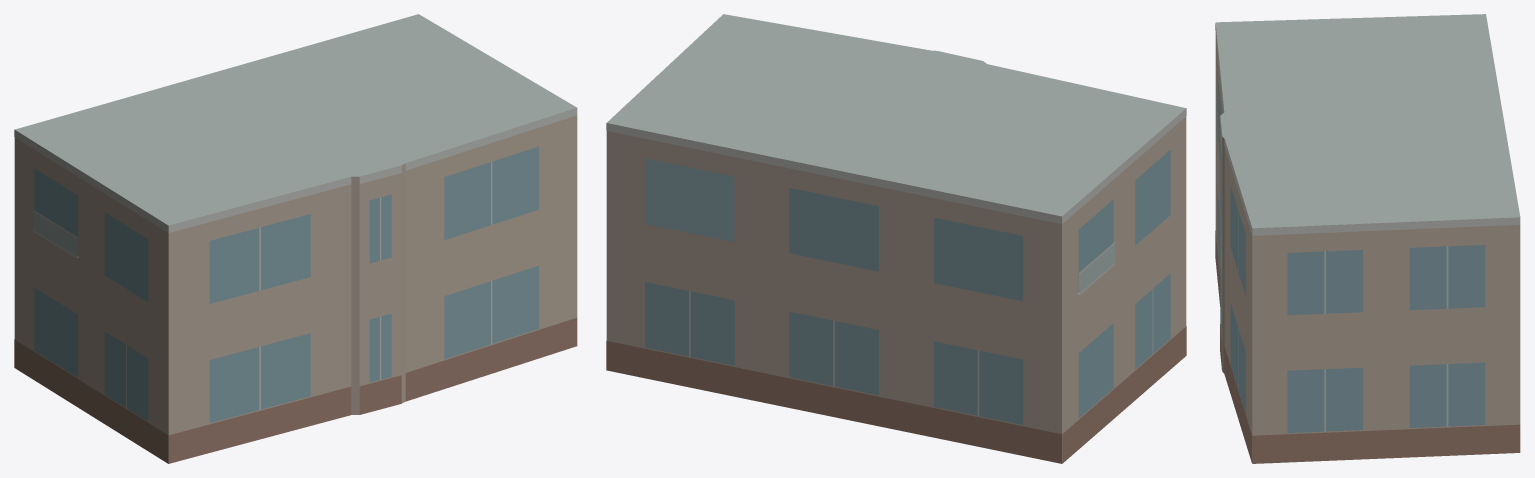
File: survey-upis-32917991.glb
3 views of the same model, side by side, from view 1: azimuth 30°, elevation 25°; view 2: azimuth 150°, elevation 25°; view 3: azimuth 270°, elevation 25° (orthographic). The views are drawn at different scales.
Parts seen in each view (by area): view 1: survey-upis-32917991.tmp; view 2: survey-upis-32917991.tmp; view 3: survey-upis-32917991.tmp.
Part boxes in pixels (x1=…): survey-upis-32917991.tmp: x1=14, y1=14, x2=577, y2=463; survey-upis-32917991.tmp: x1=606, y1=14, x2=1186, y2=463; survey-upis-32917991.tmp: x1=1215, y1=14, x2=1520, y2=463.
Size of the model in its own units: 15.04 by 7.7 by 9.04.
